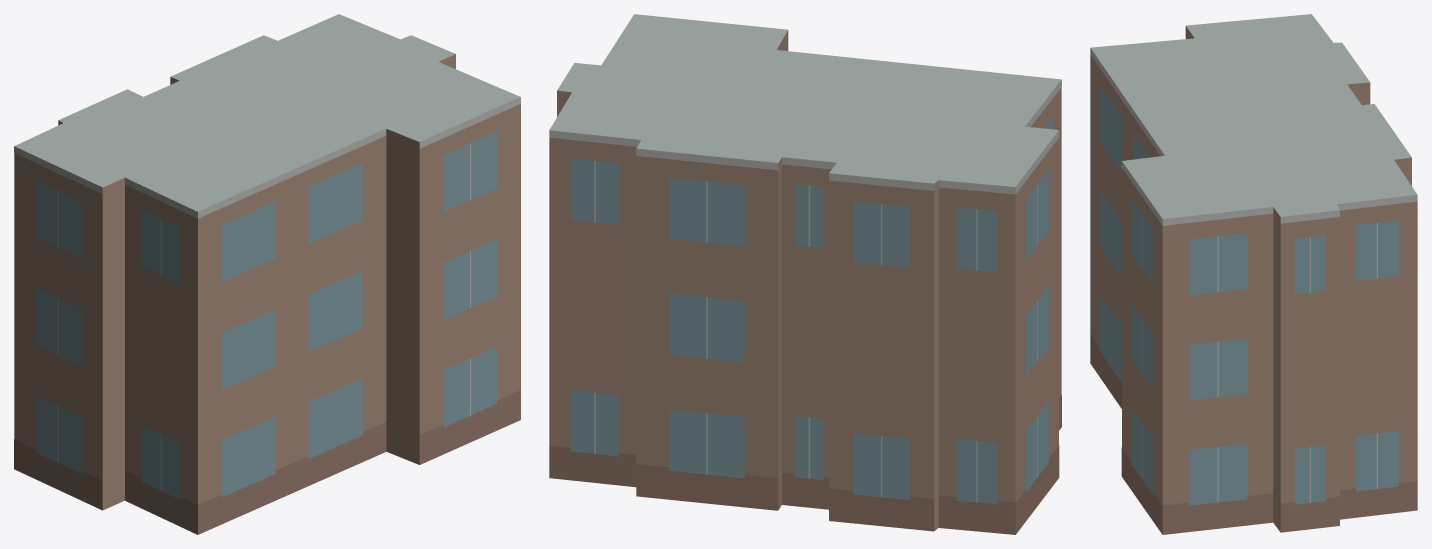
Rendered from survey-upis-33024077.glb.
3 views of the same model, side by side, from view 1: azimuth 30°, elevation 25°; view 2: azimuth 150°, elevation 25°; view 3: azimuth 270°, elevation 25° (orthographic). The views are drawn at different scales.
Visible parts, largest first — view 1: survey-upis-33024077.tmp; view 2: survey-upis-33024077.tmp; view 3: survey-upis-33024077.tmp.
Part boxes in pixels (<box>): survey-upis-33024077.tmp: <box>14,14,520,534</box>; survey-upis-33024077.tmp: <box>549,14,1061,534</box>; survey-upis-33024077.tmp: <box>1090,14,1417,534</box>.
Size of the model in its own units: 16.19 by 11.6 by 10.91.
